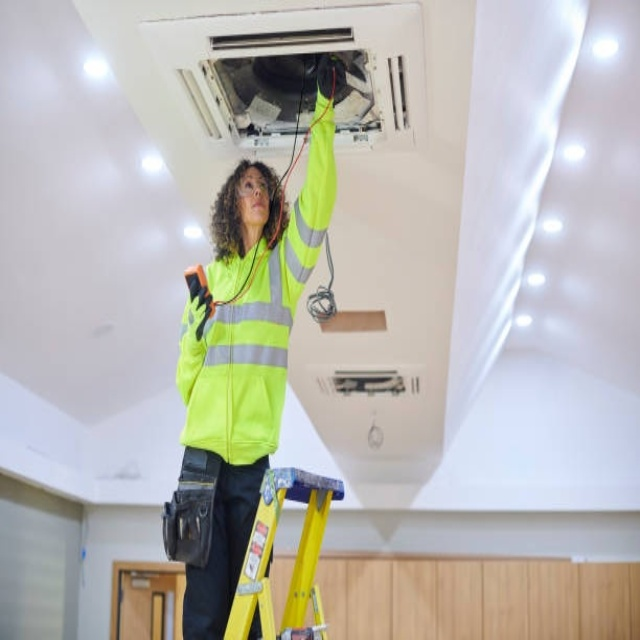Gafas: (238, 180, 270, 198)
Guantes: (184, 287, 216, 340)
Sin_mascara: (247, 198, 269, 221)
